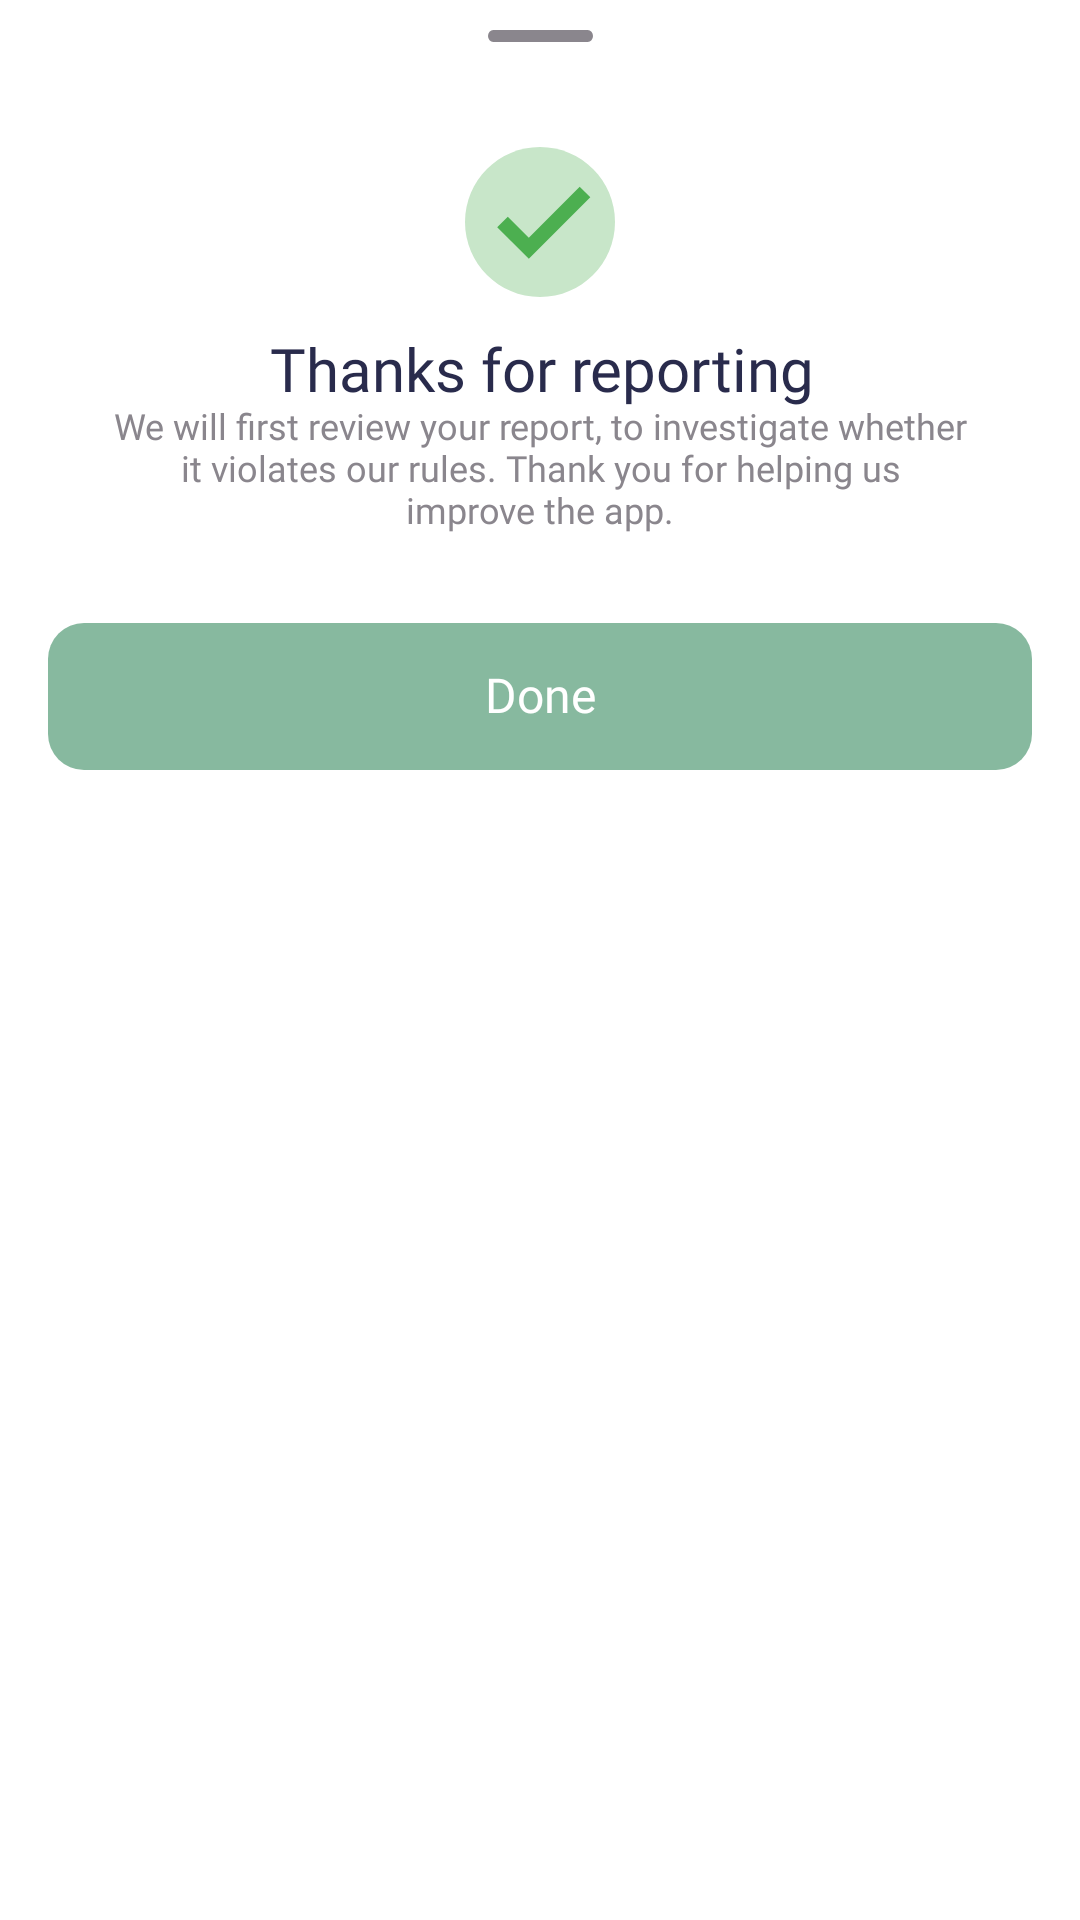

Named icons in this screenshot (1080px×1920px) and their centers, [x,y]:
checkmark: [540,222]
